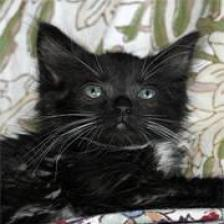cat: (30, 15, 205, 156)
